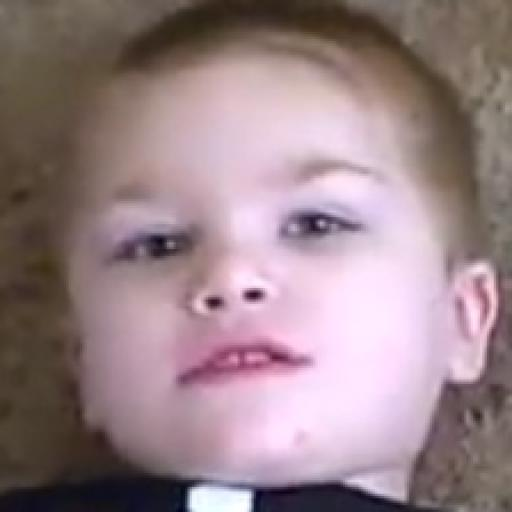Autism: (42, 52, 466, 487)
